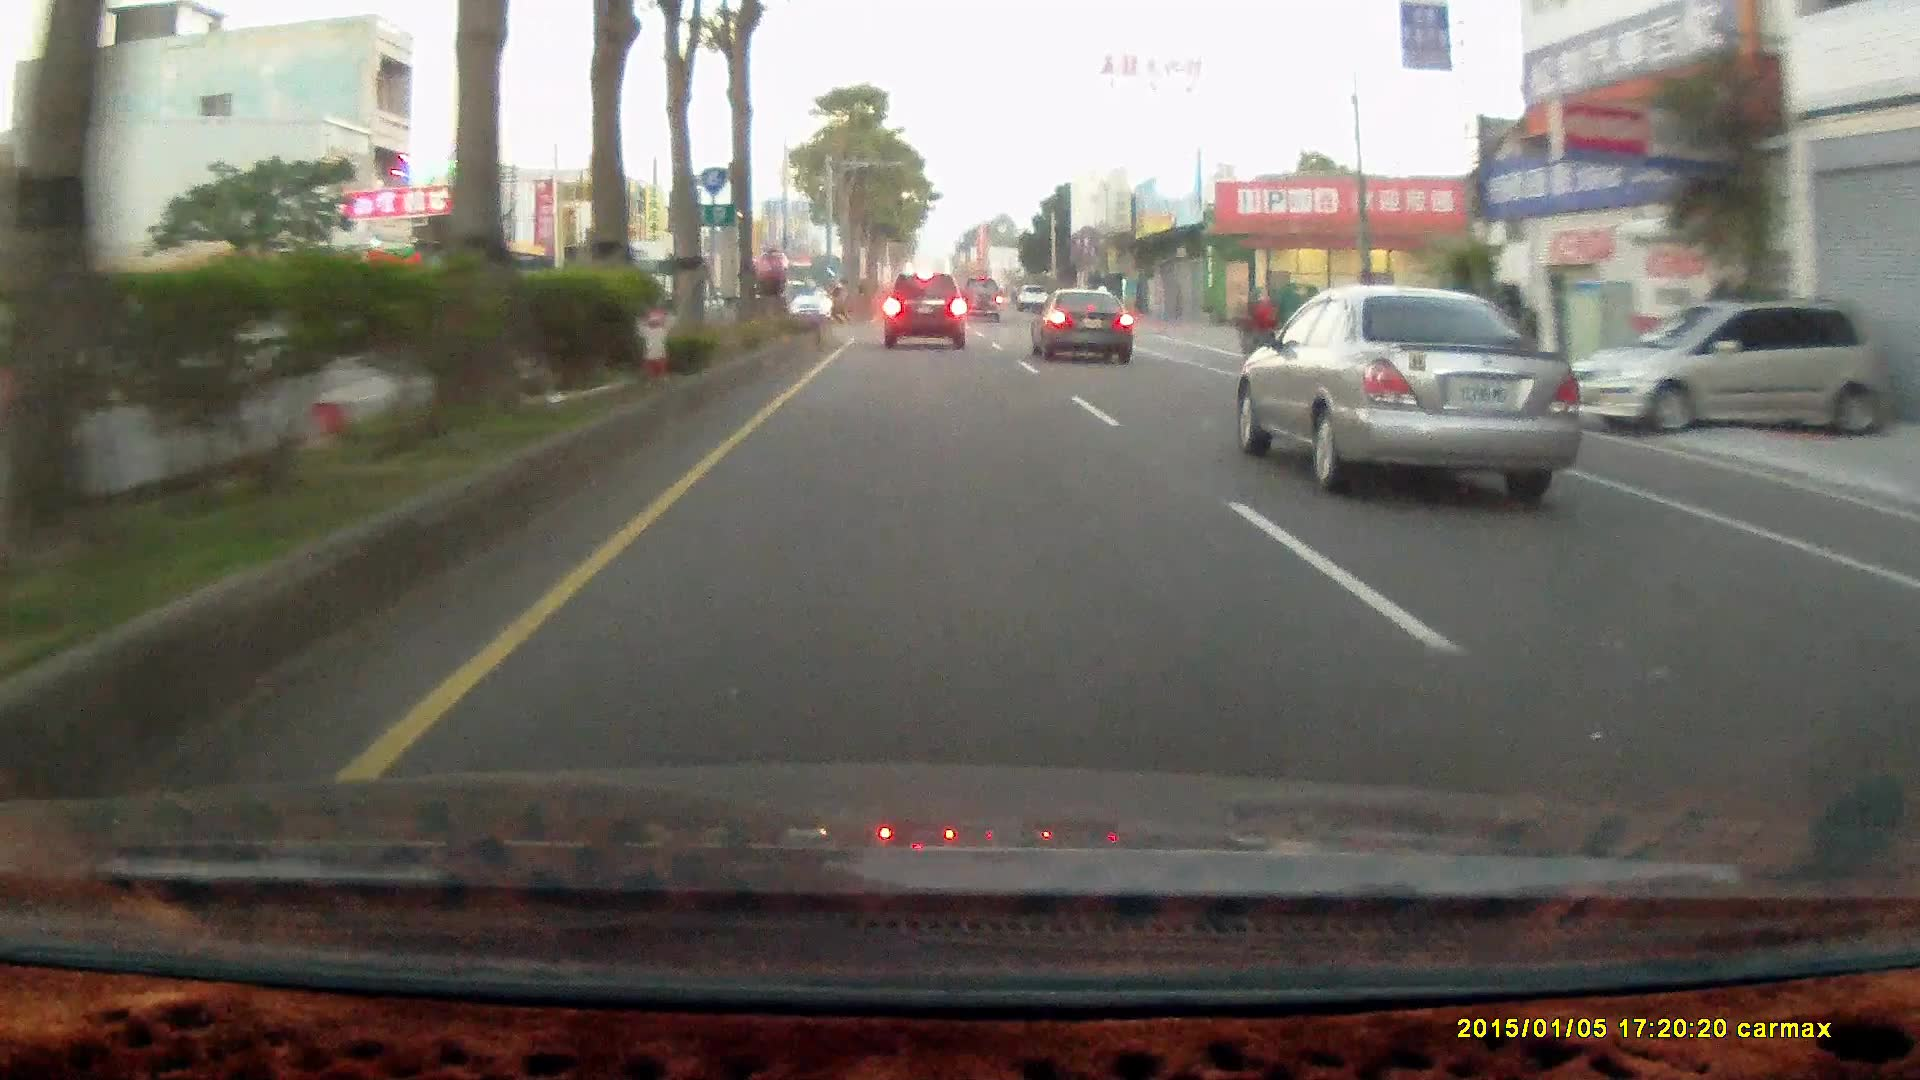pedestrian: (1248, 289, 1279, 364), (1251, 292, 1280, 361)
vehicle: (1238, 294, 1576, 505), (1576, 296, 1878, 439), (1575, 302, 1878, 445), (1031, 290, 1137, 369), (1030, 282, 1133, 361), (882, 270, 970, 350), (883, 276, 964, 351), (767, 274, 830, 330), (960, 277, 1004, 324), (959, 275, 1002, 321)
